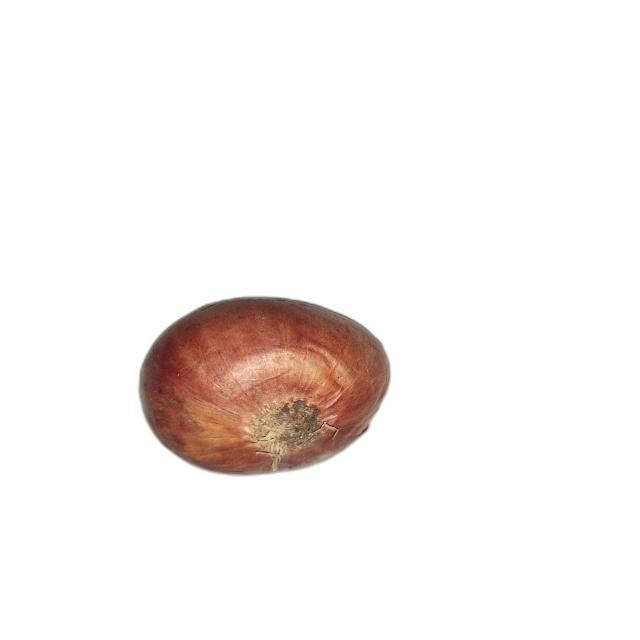onion: (138, 296, 393, 476)
